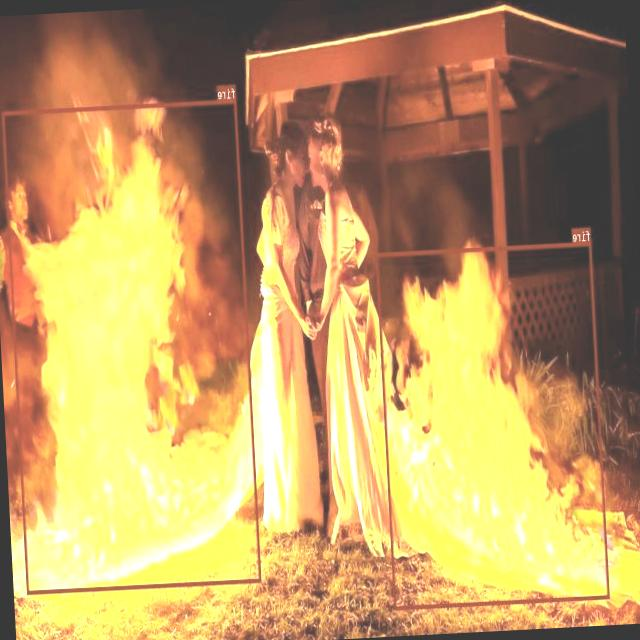fire: (2, 99, 262, 595), (377, 241, 610, 610)
